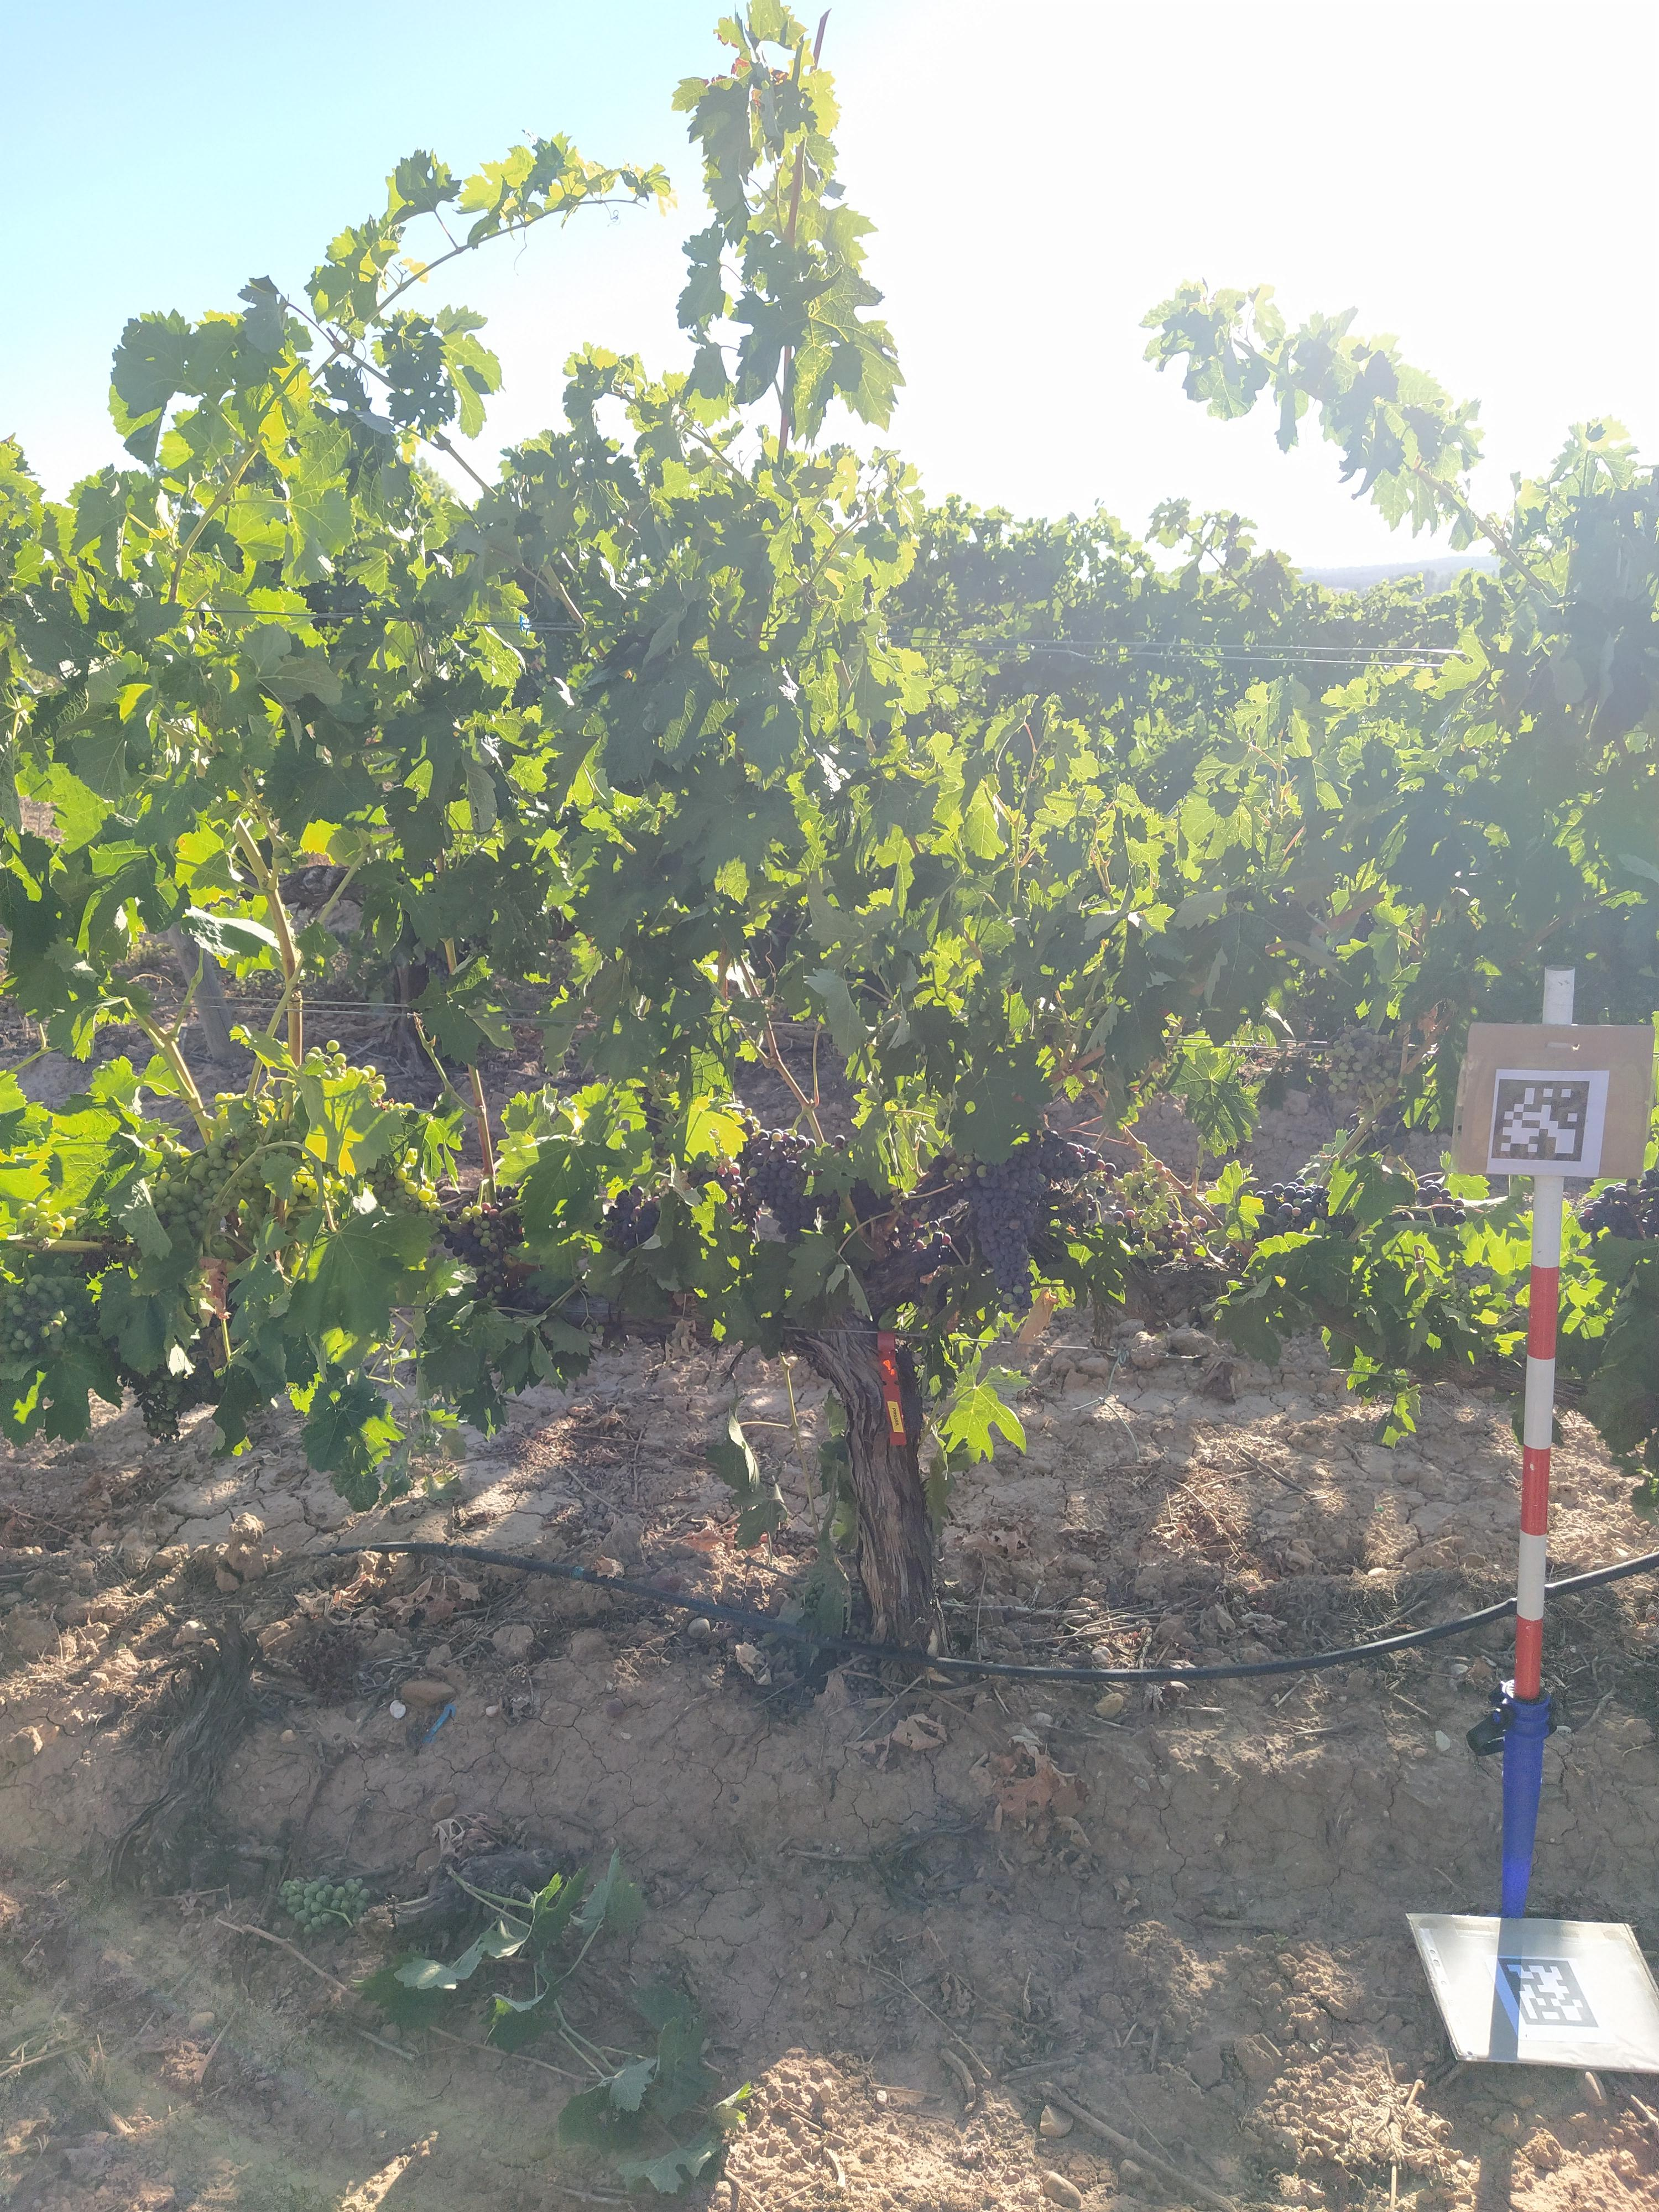QR: (1497, 1078, 1586, 1163)
